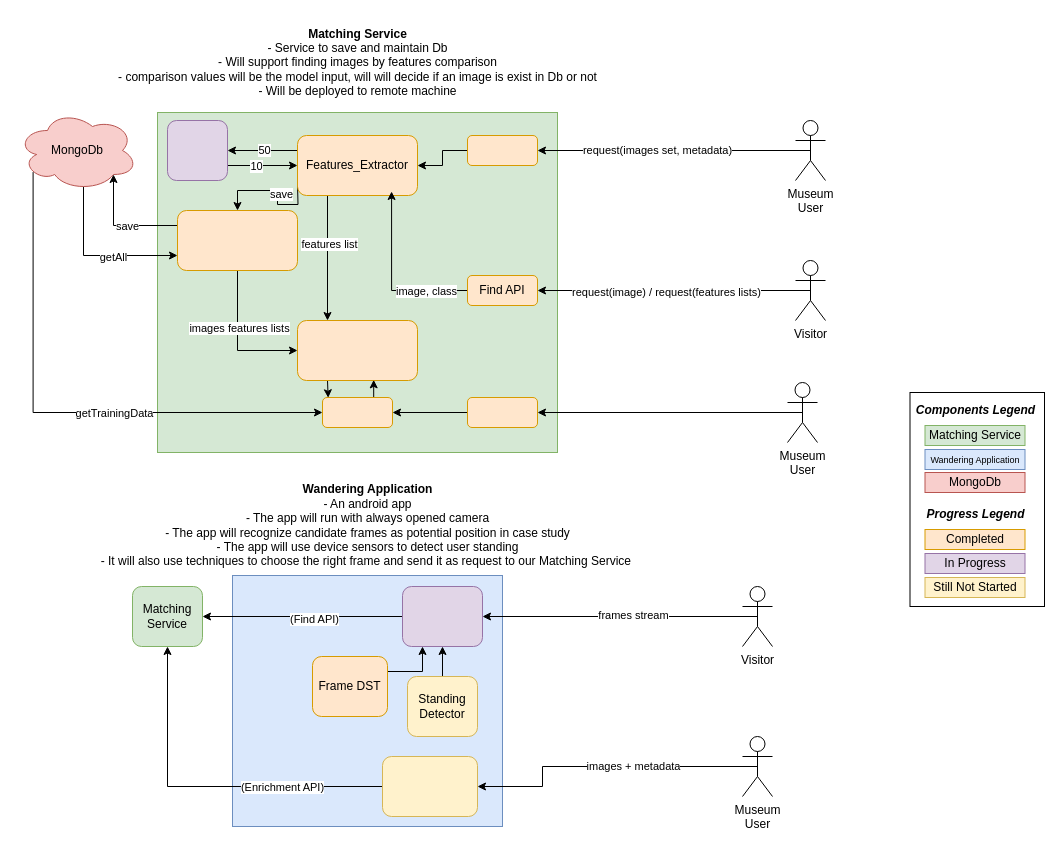
Image size: 1062x849. Some labels were removed from this diagram. The shapes that lost their labels are listed below. From the top down, each one's box as (x1, y1, x2, y2) in pixels, then its label:
(166, 120, 228, 180): Images Selector
(466, 134, 538, 166): Enrichment API
(176, 210, 298, 270): Db_Service
(296, 320, 418, 380): Finding_Service
(322, 396, 392, 428): Train Model
(466, 396, 538, 428): Train Model API
(402, 586, 482, 646): Frames Selector
(382, 756, 478, 816): Enriching Service
